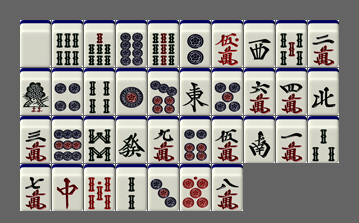0m: (212, 20, 243, 67)
0p: (180, 164, 211, 211)
0s: (84, 164, 115, 211)
1m: (276, 116, 307, 163)
1p: (116, 68, 147, 115)
1s: (20, 68, 51, 115)
1z: (180, 68, 211, 115)
2m: (308, 20, 339, 67)
2p: (180, 20, 211, 67)
2s: (116, 164, 147, 211)
2z: (244, 116, 275, 163)
3m: (20, 116, 51, 163)
3p: (148, 164, 179, 211)
3s: (308, 116, 339, 163)
3z: (244, 20, 275, 67)
4m: (276, 68, 307, 115)
4p: (52, 68, 83, 115)
4s: (84, 68, 115, 115)
4z: (308, 68, 339, 115)
5m: (212, 116, 243, 163)
5p: (212, 68, 243, 115)
5s: (276, 20, 307, 67)
5z: (20, 20, 51, 67)
6m: (244, 68, 275, 115)
6p: (180, 116, 211, 163)
6s: (52, 20, 83, 67)
6z: (116, 116, 147, 163)
7m: (20, 164, 51, 211)
7p: (148, 68, 179, 115)
7s: (84, 20, 115, 67)
7z: (52, 164, 83, 211)
8m: (212, 164, 243, 211)
8p: (116, 20, 147, 67)
8s: (84, 116, 115, 163)
9m: (148, 116, 179, 163)
9p: (52, 116, 83, 163)
9s: (148, 20, 179, 67)
